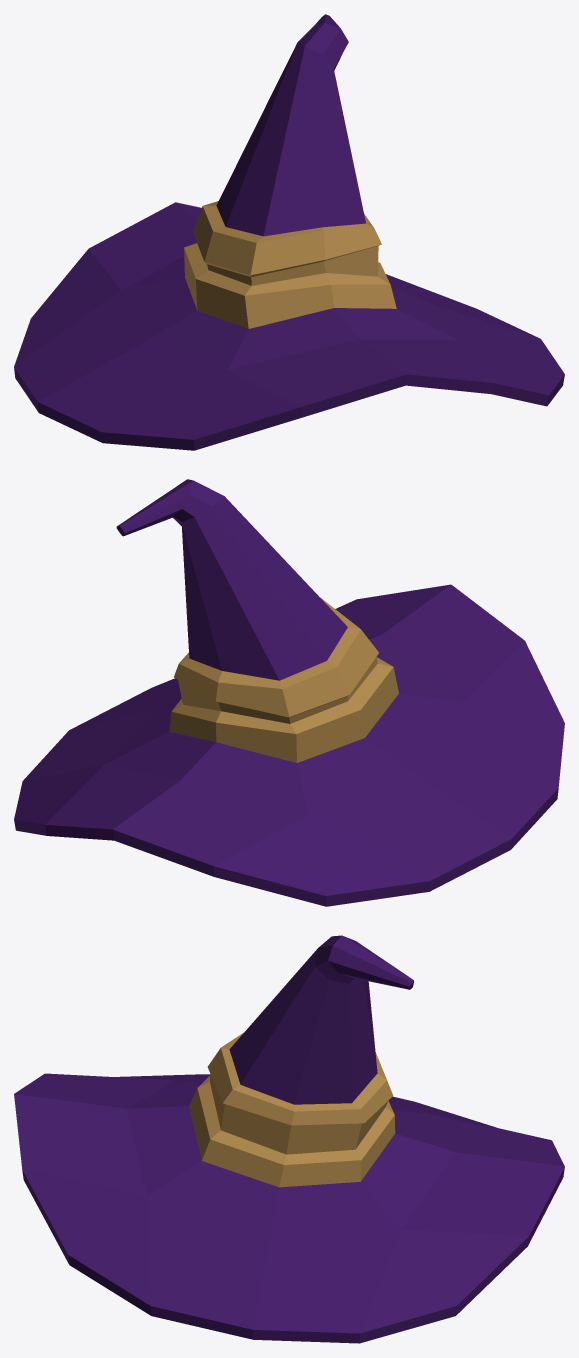
Rendered from WizardHat.fbx.
The picture shows the model from 3 angles, top to bottom: view 1: azimuth 30°, elevation 25°; view 2: azimuth 150°, elevation 25°; view 3: azimuth 270°, elevation 25°; orthographic projection. The views are drawn at different scales.
Visible parts, largest first — view 1: Witch_Head.017; view 2: Witch_Head.017; view 3: Witch_Head.017.
Part boxes in pixels (<box>): Witch_Head.017: <box>14,14,564,450</box>; Witch_Head.017: <box>14,479,564,906</box>; Witch_Head.017: <box>14,935,564,1343</box>.
Size of the model in its own units: 52.55 by 36.5 by 54.82.
